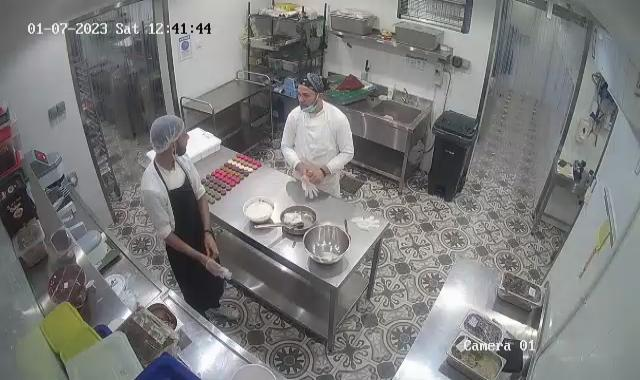hairnet: (152, 113, 184, 151)
no_hairnet: (298, 72, 328, 102)
